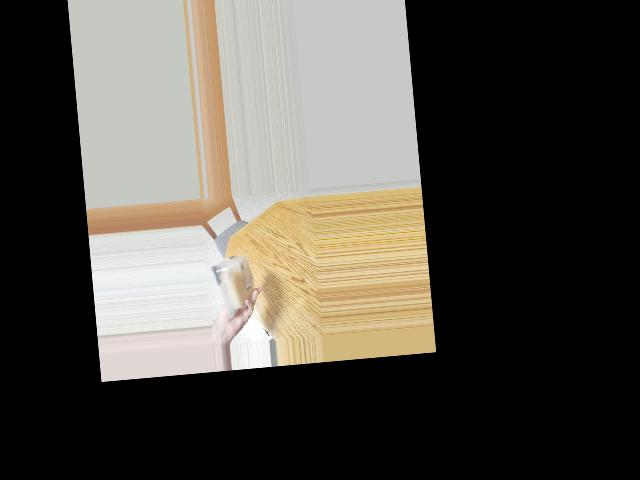cheese: (211, 251, 259, 312)
